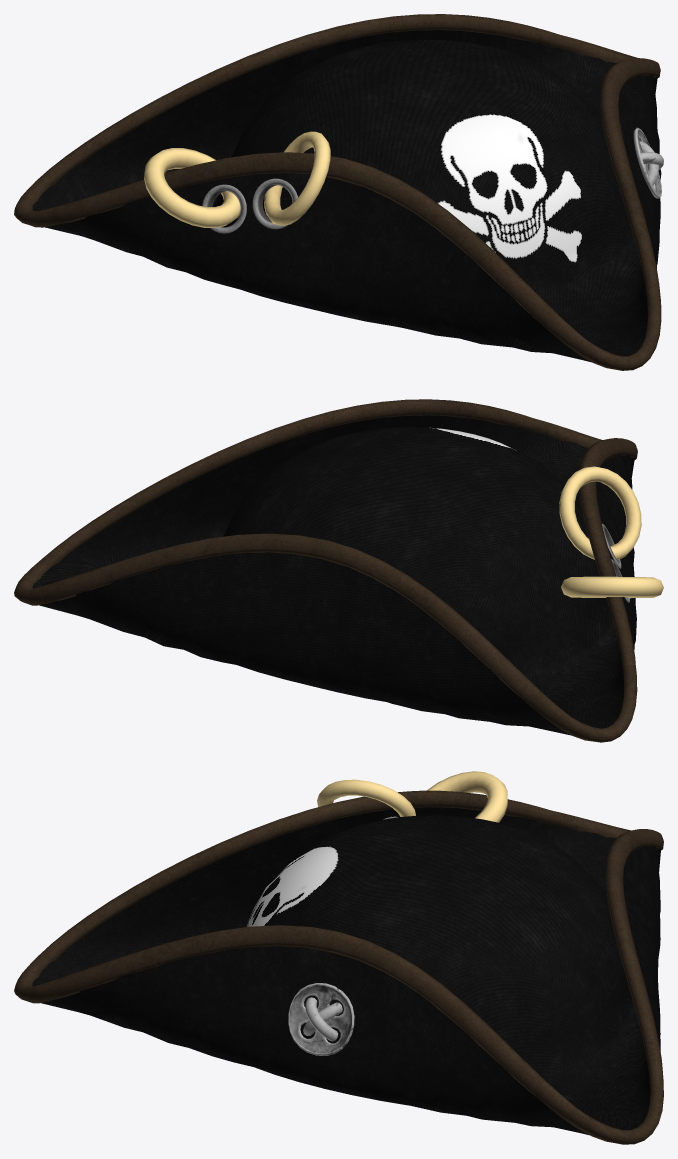
File: hat.fbx
3 views of the same model, one above another, from view 1: azimuth 30°, elevation 25°; view 2: azimuth 150°, elevation 25°; view 3: azimuth 270°, elevation 25° (orthographic). The views are drawn at different scales.
Visible parts, largest first — view 1: Hat_Body_MP, Hat_Border_MP, Hat_Anello1_MP, Hat_Anello2_MP, Hat_Ring_Hole1_MP, Hat_Ring_Hole2_MP, Hat_Bottom_Base_MP; view 2: Hat_Body_MP, Hat_Border_MP, Hat_Anello2_MP, Hat_Anello1_MP; view 3: Hat_Body_MP, Hat_Border_MP, Hat_Bottom_Base_MP, Hat_Anello1_MP, Hat_Anello2_MP, Hat_Bottom_Detail2_MP.
Boxes of the visible parts, <box> form: Hat_Body_MP: <box>32,30,661,362</box>; Hat_Border_MP: <box>14,14,661,370</box>; Hat_Anello1_MP: <box>144,148,240,227</box>; Hat_Anello2_MP: <box>264,131,330,225</box>; Hat_Ring_Hole1_MP: <box>252,178,297,229</box>; Hat_Ring_Hole2_MP: <box>202,184,246,233</box>; Hat_Bottom_Base_MP: <box>633,127,661,198</box>; Hat_Body_MP: <box>32,415,636,735</box>; Hat_Border_MP: <box>14,399,637,742</box>; Hat_Anello2_MP: <box>559,466,641,560</box>; Hat_Anello1_MP: <box>561,576,663,598</box>; Hat_Body_MP: <box>32,807,660,1135</box>; Hat_Border_MP: <box>14,790,663,1144</box>; Hat_Bottom_Base_MP: <box>288,983,354,1055</box>; Hat_Anello1_MP: <box>427,771,507,822</box>; Hat_Anello2_MP: <box>317,779,415,816</box>; Hat_Bottom_Detail2_MP: <box>305,997,337,1041</box>.
Bounding box in the file's own units: 821 × 209 × 732.
Materials: 1 (1 with a texture image).
